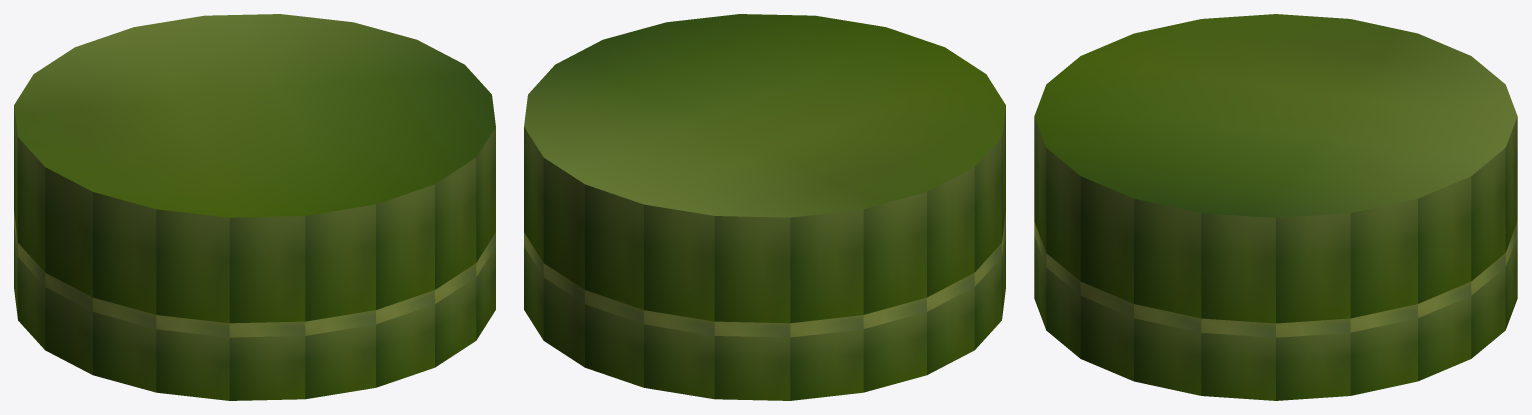
File: PLF0110158.fbx
3 views of the same model, side by side, from view 1: azimuth 30°, elevation 25°; view 2: azimuth 150°, elevation 25°; view 3: azimuth 270°, elevation 25° (orthographic).
Parts seen in each view (by area): view 1: smPLF0110158; view 2: smPLF0110158; view 3: smPLF0110158.
Boxes of the visible parts, x1=… form: smPLF0110158: x1=14, y1=14, x2=495, y2=400; smPLF0110158: x1=524, y1=14, x2=1005, y2=400; smPLF0110158: x1=1034, y1=14, x2=1517, y2=400.
Size of the model in its own units: 227 by 94.65 by 227.
